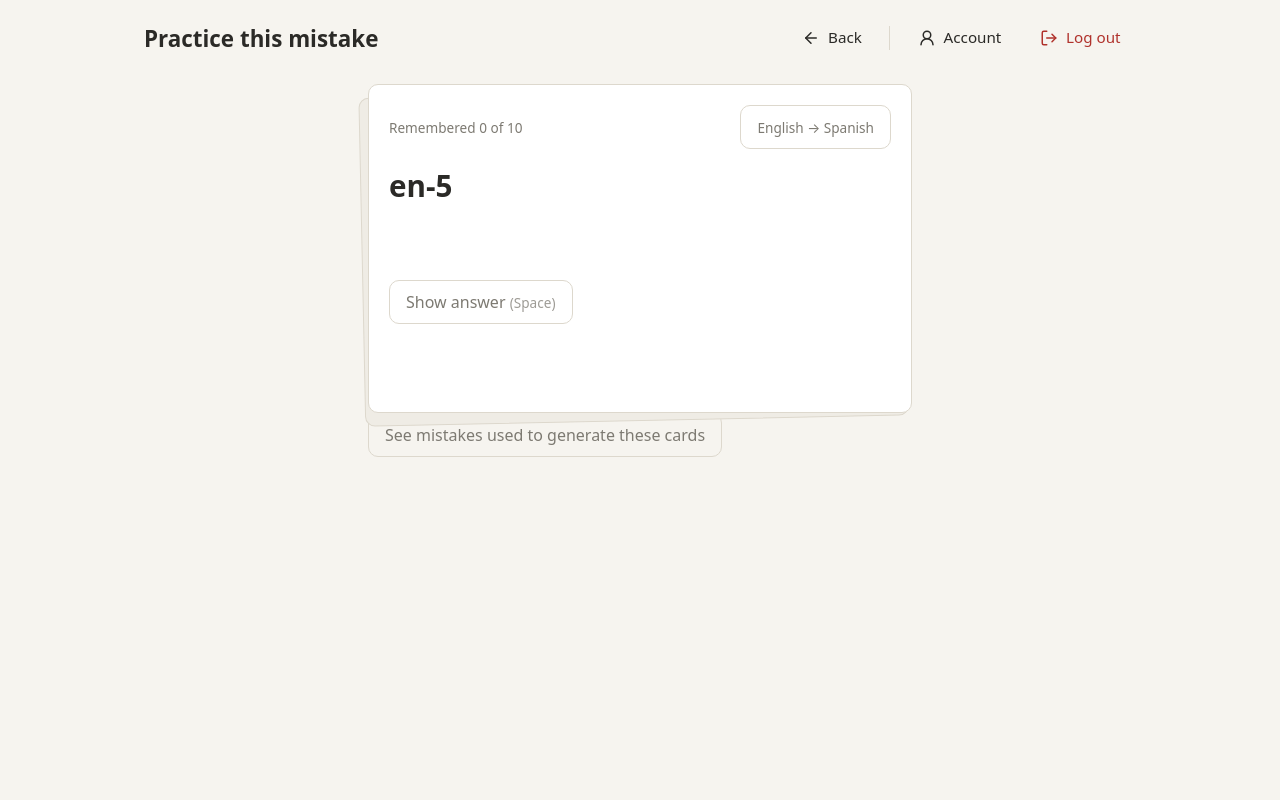
Test: PracticeMistakePage › opens the source modal from the persistent link and shows historical examples
The image size is (1280, 800).
Expected: the text "en-5" is shown, left=389, top=165, right=452, bottom=206
Click the button "See mistakes used to generate these cards".
click(545, 435)  # box left=368, top=413, right=722, bottom=457
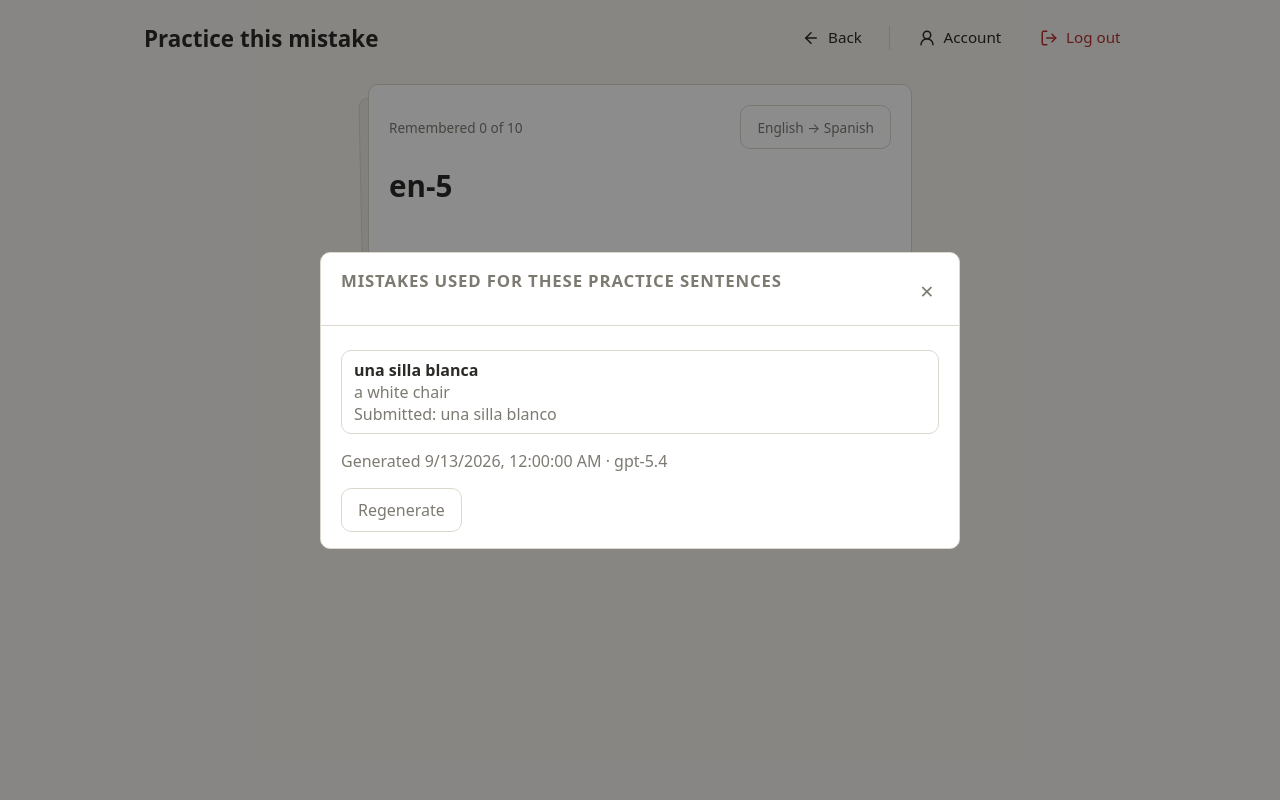
Now the text "a white chair" is shown, box left=354, top=380, right=450, bottom=402
